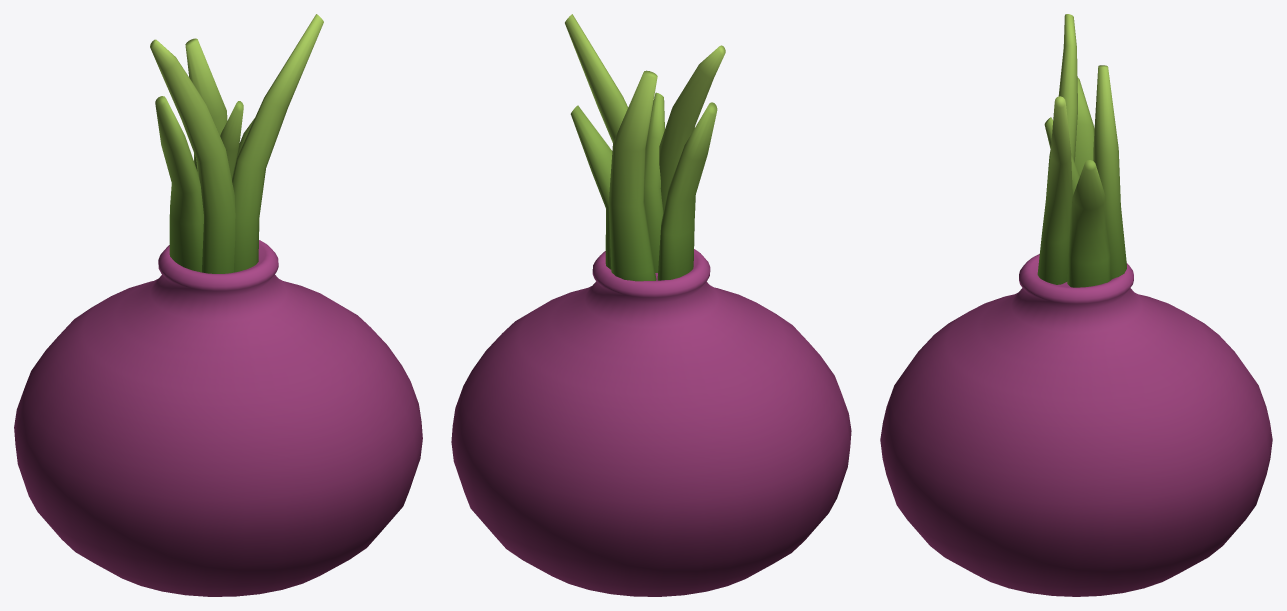
The model's file is Onion.fbx.
3 renders of one model, left to right at view 1: azimuth 30°, elevation 25°; view 2: azimuth 150°, elevation 25°; view 3: azimuth 270°, elevation 25°, orthographic. The views are drawn at different scales.
Visible parts, largest first — view 1: Onion; view 2: Onion; view 3: Onion.
Part boxes in pixels (<box>): Onion: <box>14,14,422,596</box>; Onion: <box>451,14,851,596</box>; Onion: <box>880,14,1272,596</box>.
Bounding box in the file's own units: 11.83 × 17.92 × 11.83.
